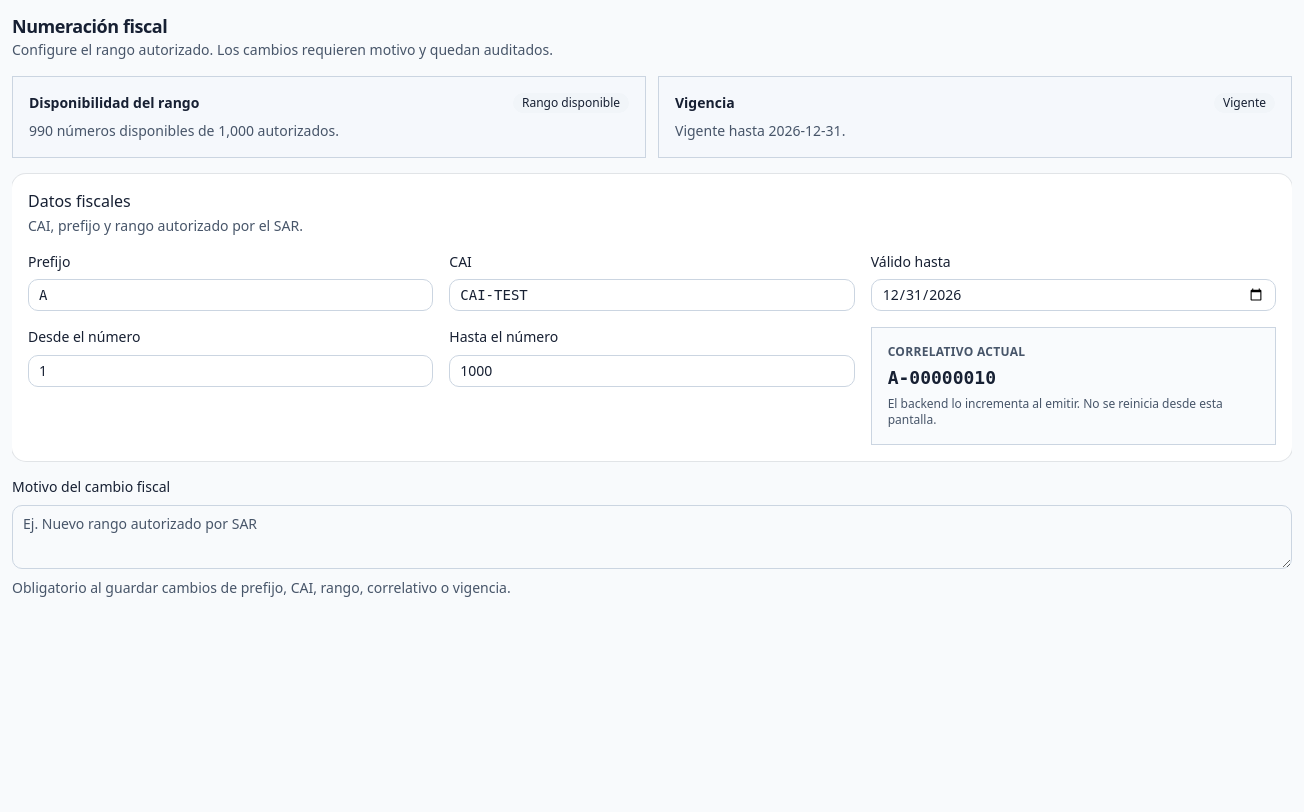
Scenario: FiscalNumerationView › requires a fiscal reason before saving changed fiscal sequence data
Type "B" into the field labelled "Prefijo" at (231, 295), box [28, 279, 433, 311]
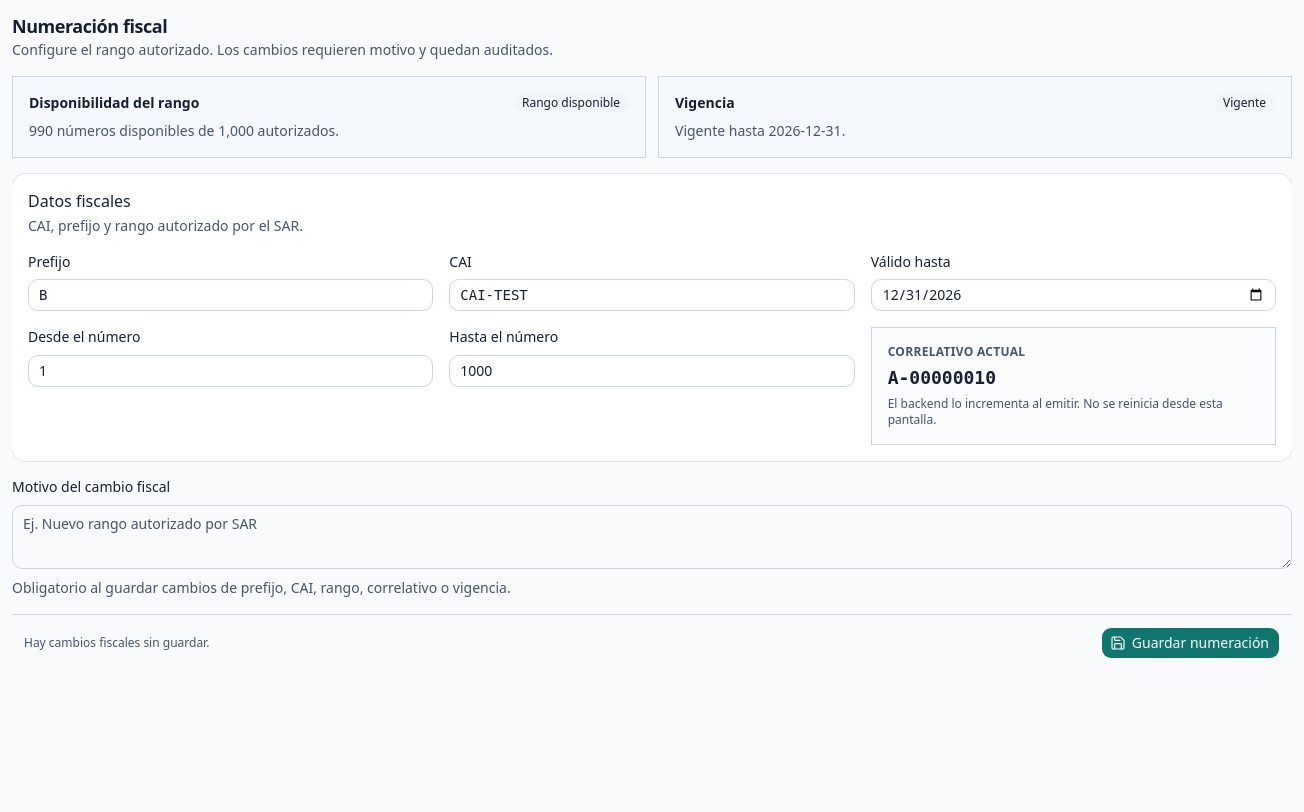
Click the button "Guardar numeración" at (1190, 642), box [1101, 626, 1280, 658]
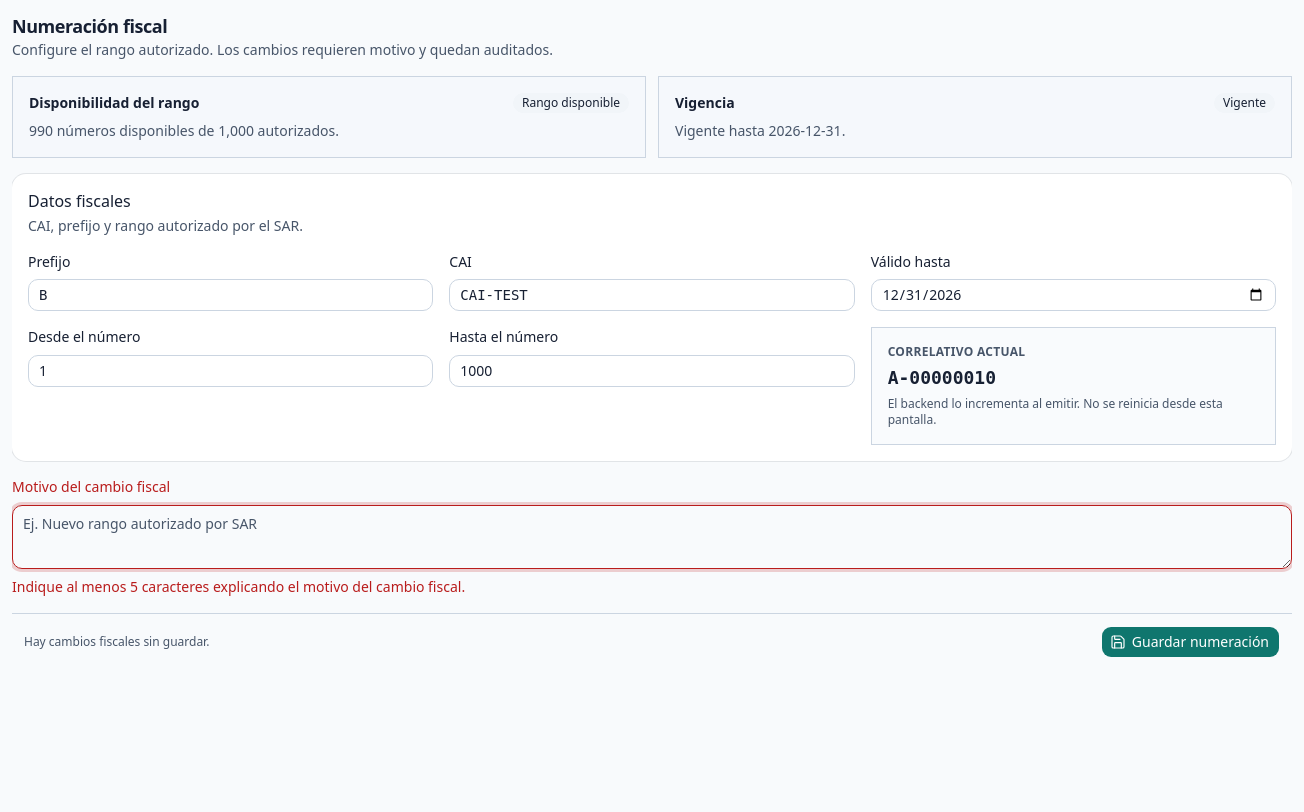
Expected: the text "Indique al menos 5 caracteres explicando el motivo del cambio fiscal." is shown, [12, 576, 465, 596]
